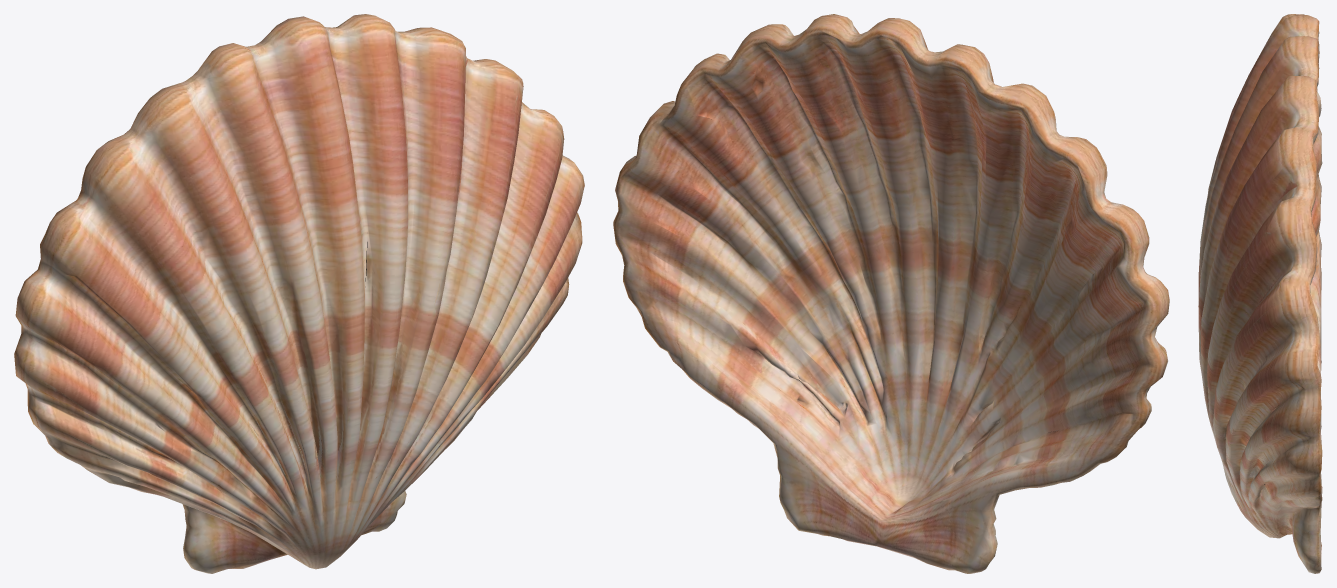
Rendered from seashell.glb.
3 views of the same model, side by side, from view 1: azimuth 30°, elevation 25°; view 2: azimuth 150°, elevation 25°; view 3: azimuth 270°, elevation 25° (orthographic). The views are drawn at different scales.
Parts seen in each view (by area): view 1: Model; view 2: Model; view 3: Model.
Part boxes in pixels (left/top/right/bottom): Model: left=14, top=14, right=584, bottom=573; Model: left=613, top=14, right=1169, bottom=573; Model: left=1198, top=14, right=1322, bottom=573.
Bounding box in the file's own units: 1.9 × 1.75 × 0.3954.
Materials: 1 (1 with a texture image).
